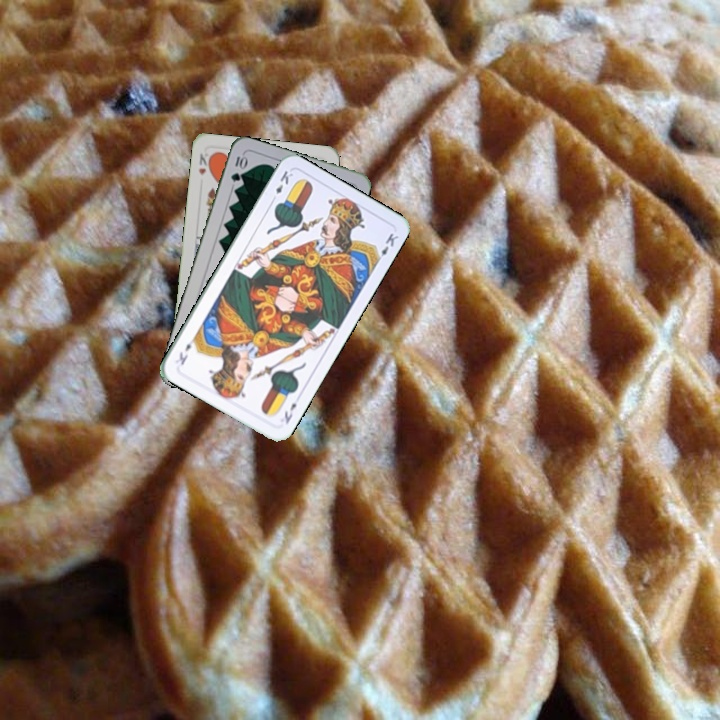EK: (267, 166, 296, 205), (280, 399, 299, 427)
G10: (227, 151, 249, 185)
HK: (194, 149, 214, 178)
